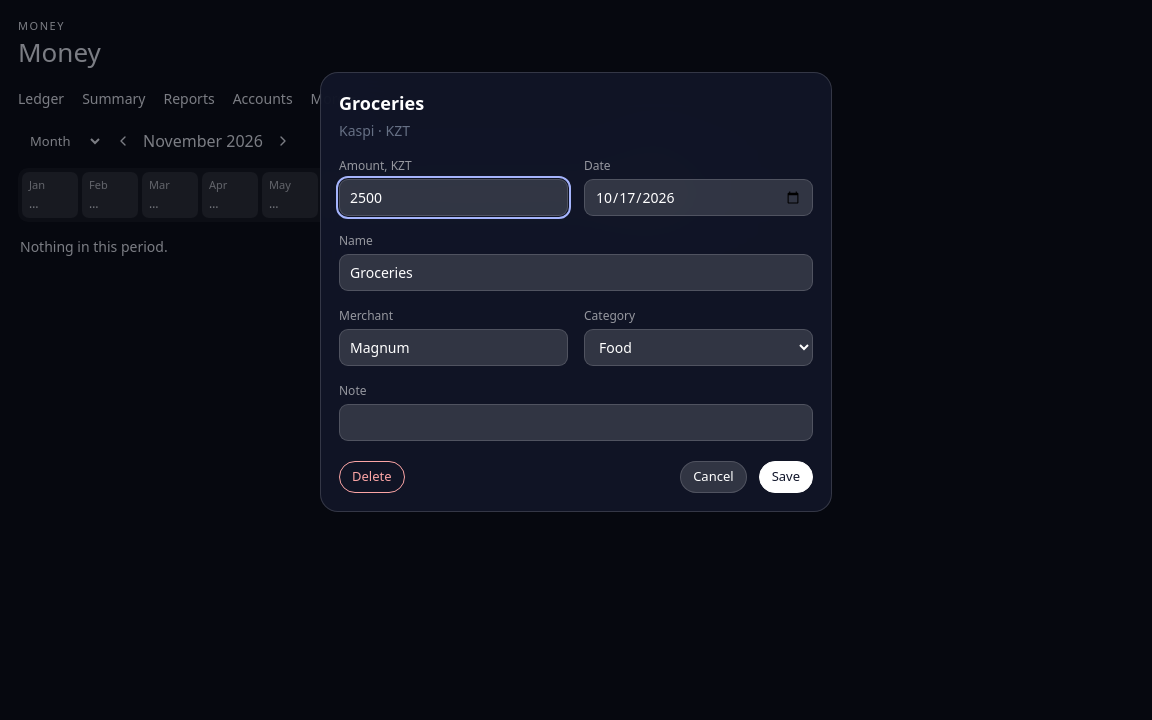
it: the ledger row editor › closes without a request when nothing changed
The image size is (1152, 720).
Click the button "Save". click: (786, 477)
box: [759,461,813,492]
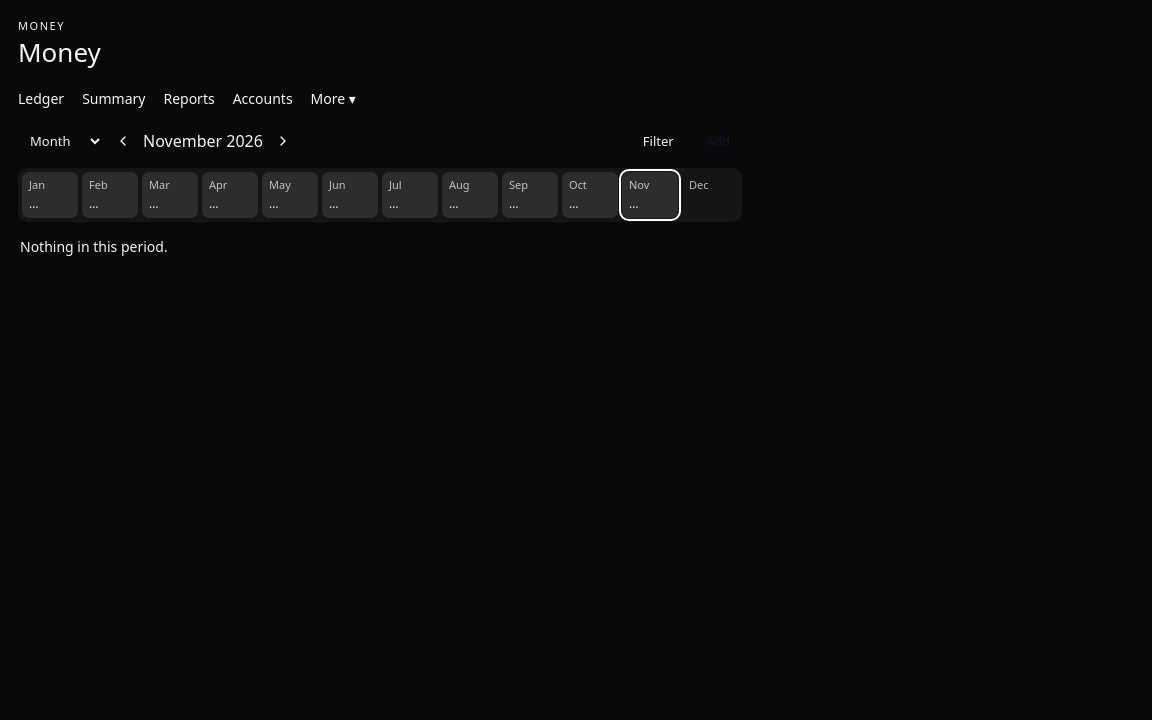
Result: the button "Save" is gone
